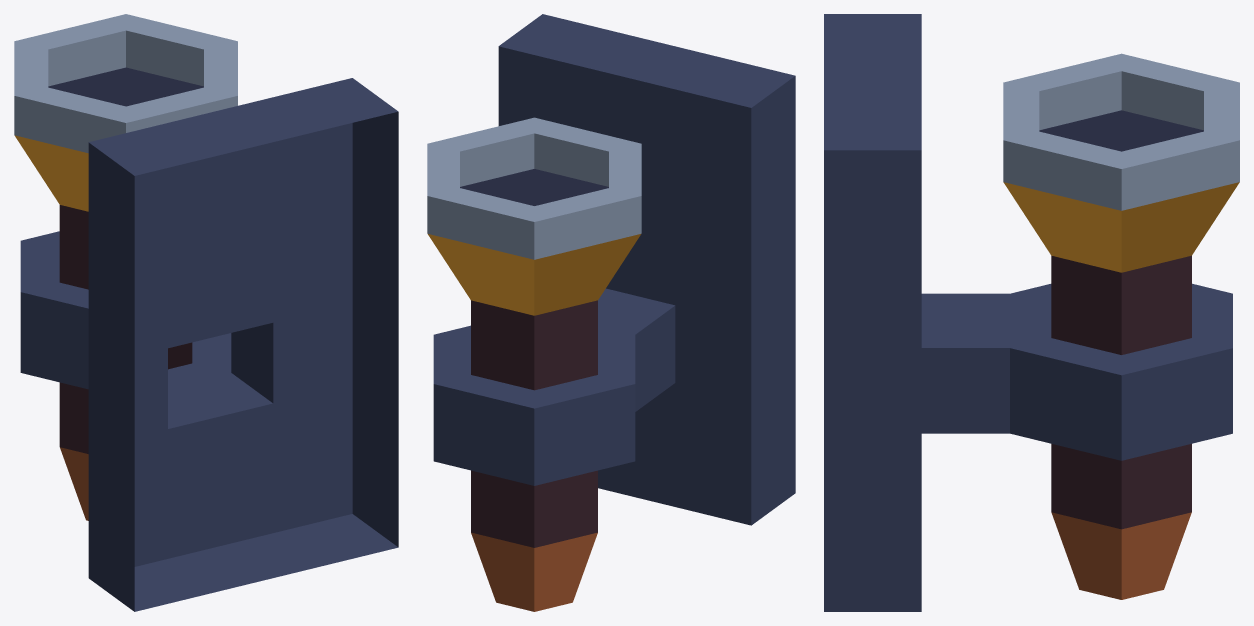
Rendered from torch.glb.
The picture shows the model from 3 angles, left to right: view 1: azimuth 30°, elevation 25°; view 2: azimuth 150°, elevation 25°; view 3: azimuth 270°, elevation 25°; orthographic projection. The views are drawn at different scales.
Visible parts, largest first — view 1: Torch; view 2: Torch; view 3: Torch.
Part boxes in pixels (bbox=[...]): Torch: bbox=[14, 14, 398, 611]; Torch: bbox=[427, 14, 795, 611]; Torch: bbox=[824, 14, 1239, 611].
Bounding box in the file's own units: 0.4354 × 0.7402 × 0.5611.
1 material, 1 textured.
